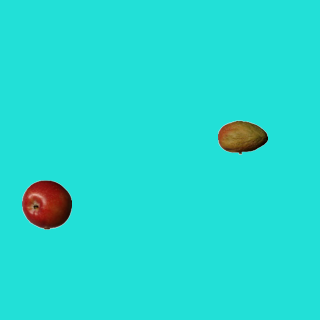Apple Braeburn: (21, 179, 71, 229)
Papaya: (217, 112, 267, 162)
